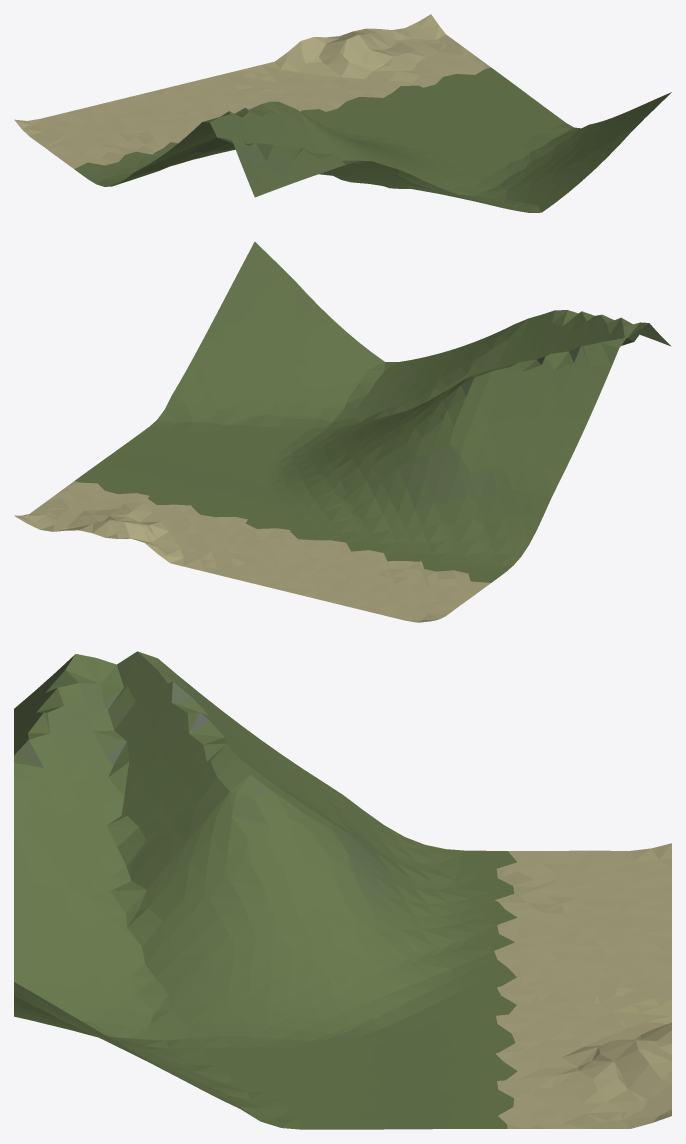
The model's file is Ground_-3_-6.glb.
The picture shows the model from 3 angles, top to bottom: view 1: azimuth 30°, elevation 25°; view 2: azimuth 150°, elevation 25°; view 3: azimuth 270°, elevation 25°; orthographic projection. The views are drawn at different scales.
Parts seen in each view (by area): view 1: Ground_-3_-6; view 2: Ground_-3_-6; view 3: Ground_-3_-6.
Boxes of the visible parts, <box> form: Ground_-3_-6: <box>14,14,671,212</box>; Ground_-3_-6: <box>14,241,671,622</box>; Ground_-3_-6: <box>14,651,671,1129</box>.
Size of the model in its own units: 768 by 258 by 768.
